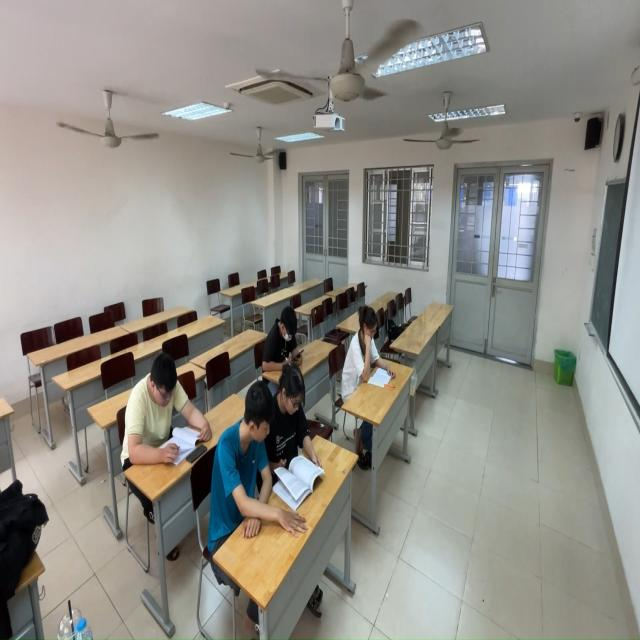read: (215, 379, 283, 554), (118, 348, 212, 472), (270, 355, 323, 487), (345, 306, 396, 401), (264, 306, 306, 368)
